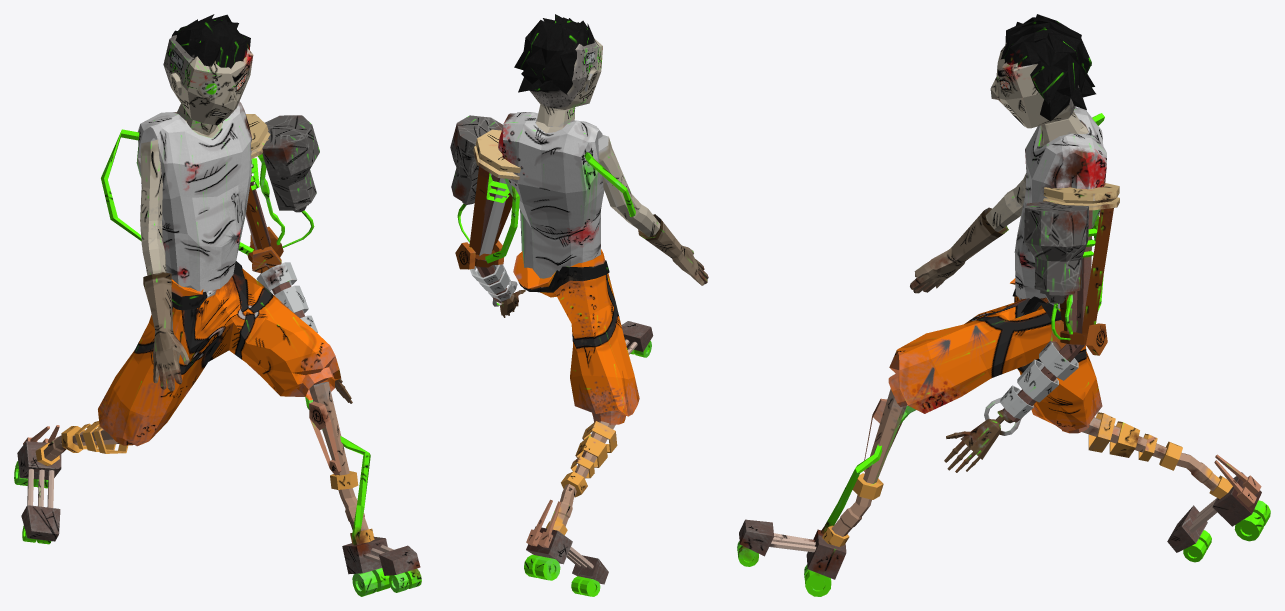
File: CyborgFINALAnimation_000003.obj
3 views of the same model, side by side, from view 1: azimuth 30°, elevation 25°; view 2: azimuth 150°, elevation 25°; view 3: azimuth 270°, elevation 25° (orthographic). The views are drawn at different scales.
Parts seen in each view (by area): view 1: CyborgMesh_Cube.002; view 2: CyborgMesh_Cube.002; view 3: CyborgMesh_Cube.002.
Boxes of the visible parts, x1,y1,x2,y2 form: CyborgMesh_Cube.002: (14, 14, 421, 596); CyborgMesh_Cube.002: (450, 14, 708, 596); CyborgMesh_Cube.002: (737, 14, 1270, 596).
Bounding box in the file's own units: 3.78 × 8.88 × 7.29.
